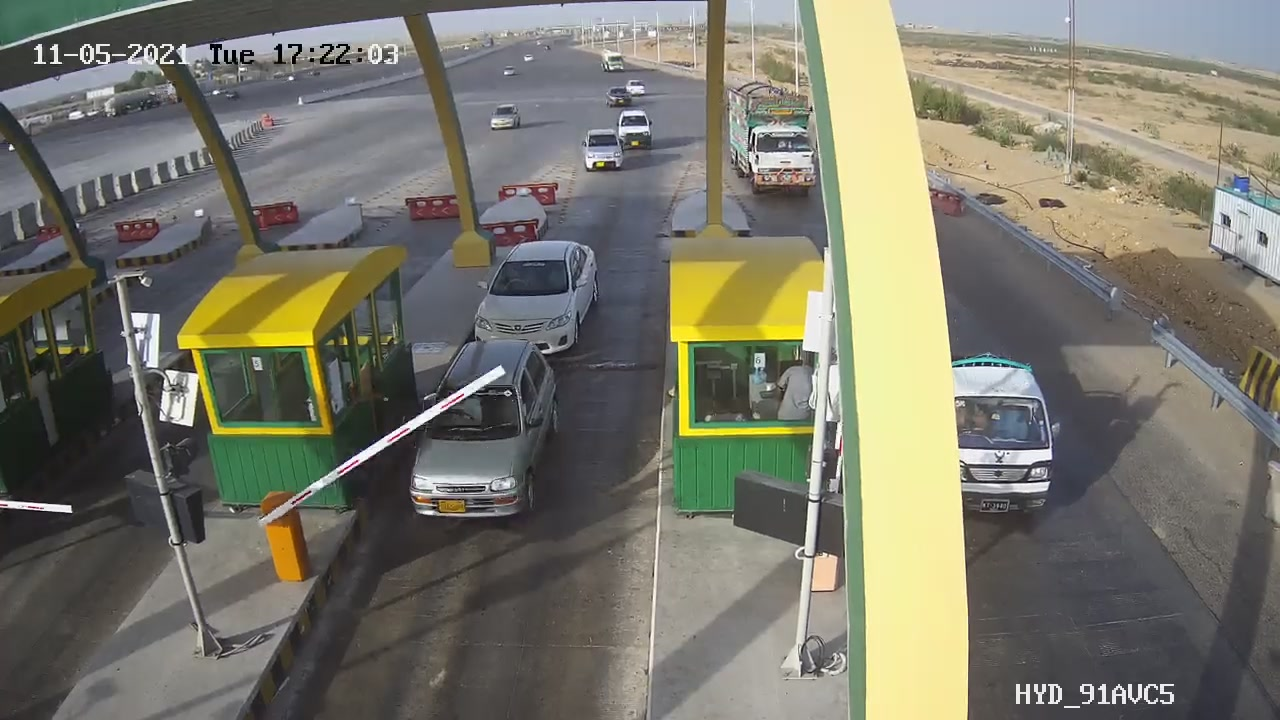F1: (398, 325, 574, 534), (459, 225, 616, 372)
